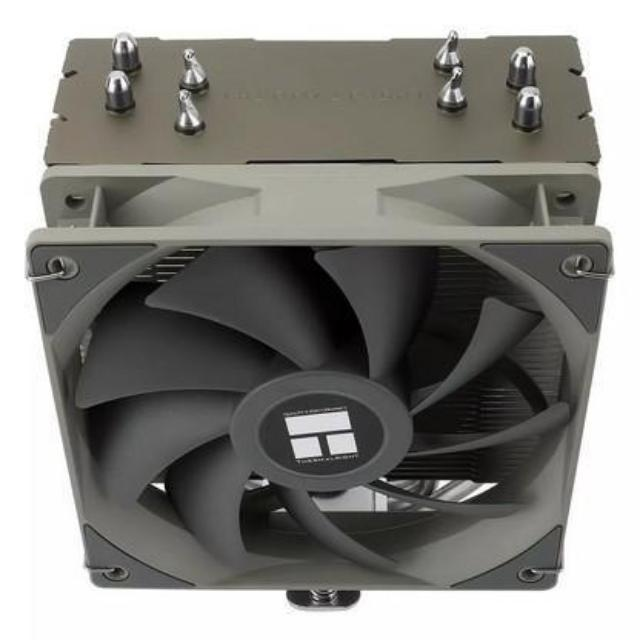CPU_Fan: (22, 28, 616, 614)
